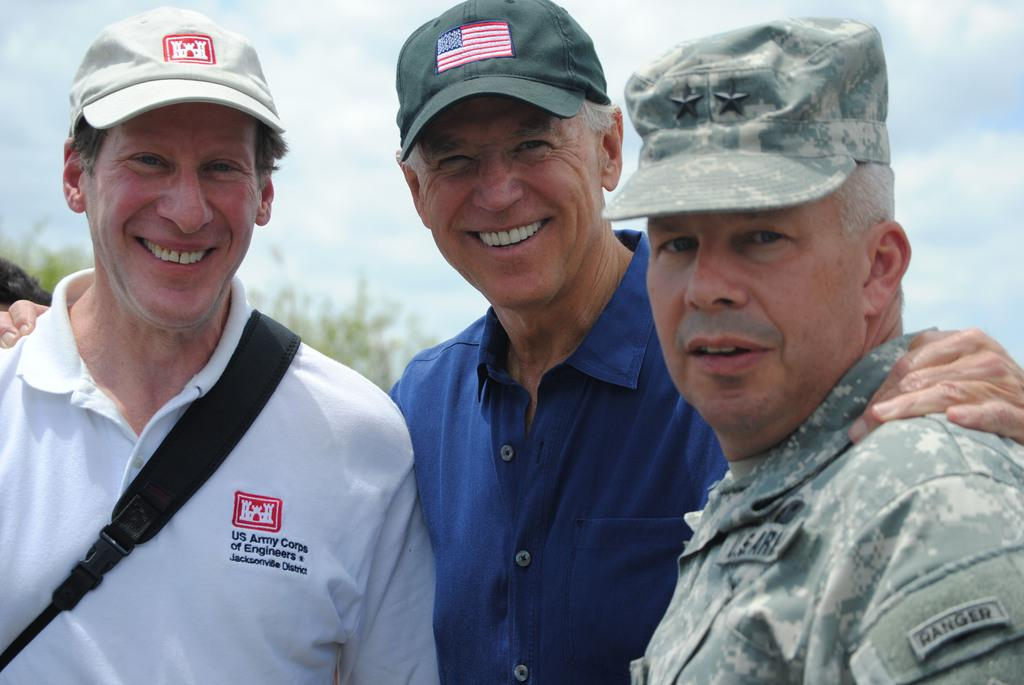Hat: (602, 11, 890, 223), (390, 0, 618, 165), (66, 5, 286, 132)
